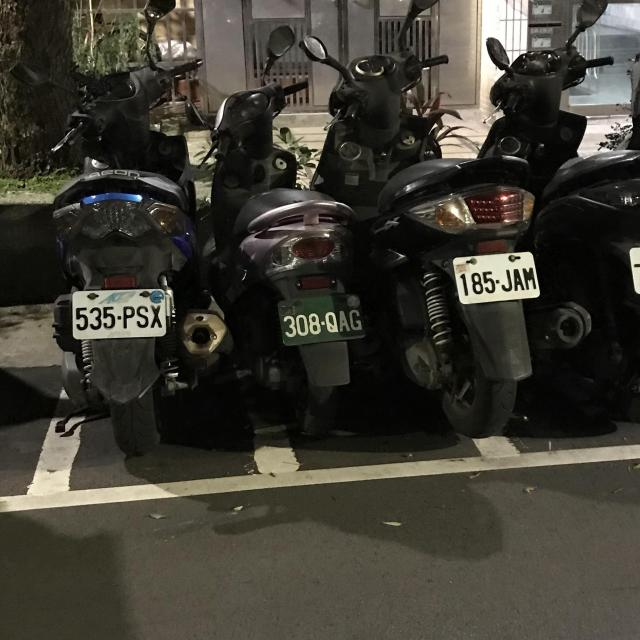GW: (274, 292, 367, 346)
W: (70, 285, 171, 341), (448, 248, 542, 306), (626, 240, 640, 299)
